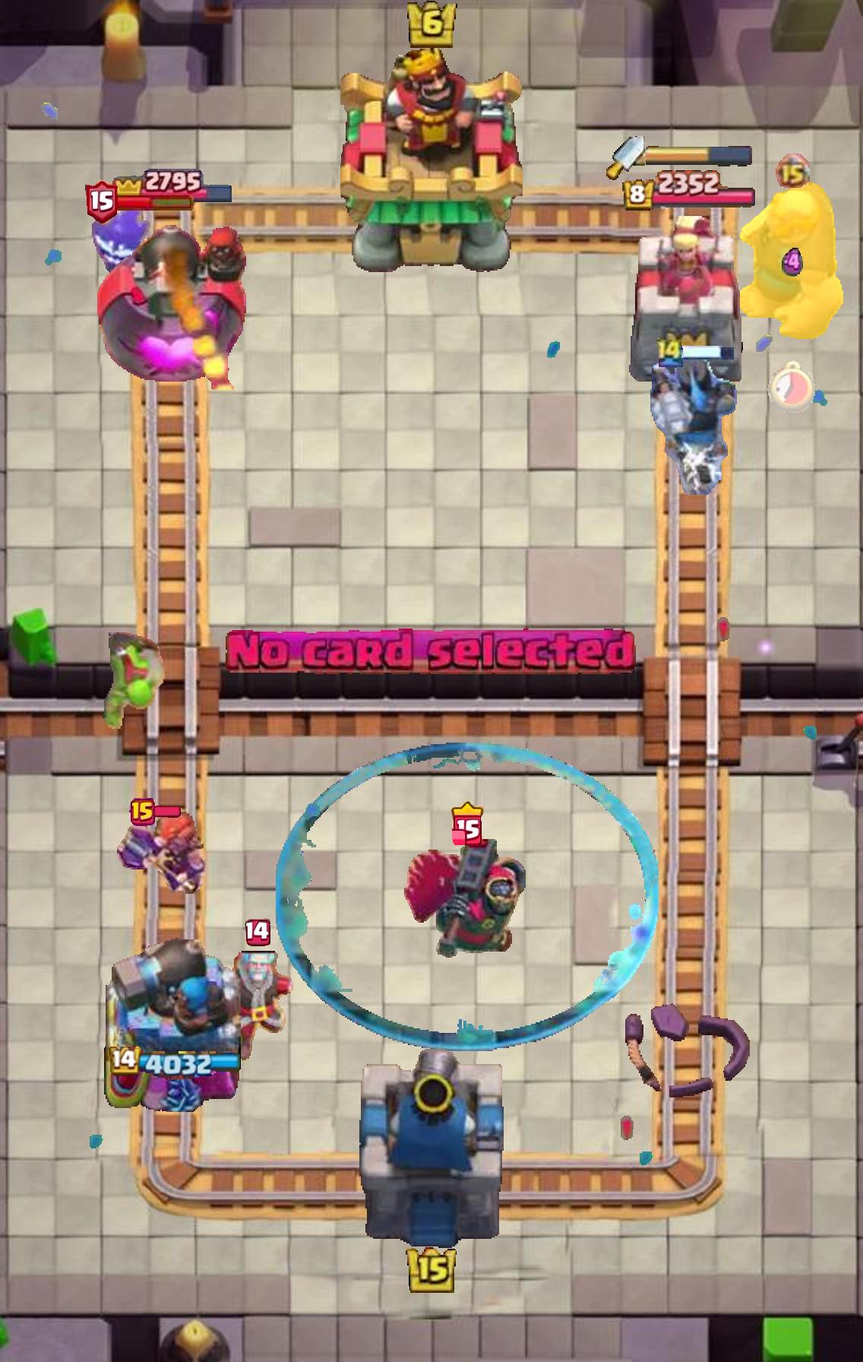bar: (114, 193, 194, 211), (152, 806, 182, 818)
bar-level: (85, 180, 118, 224), (452, 801, 484, 845), (130, 798, 156, 826), (245, 918, 270, 946)
